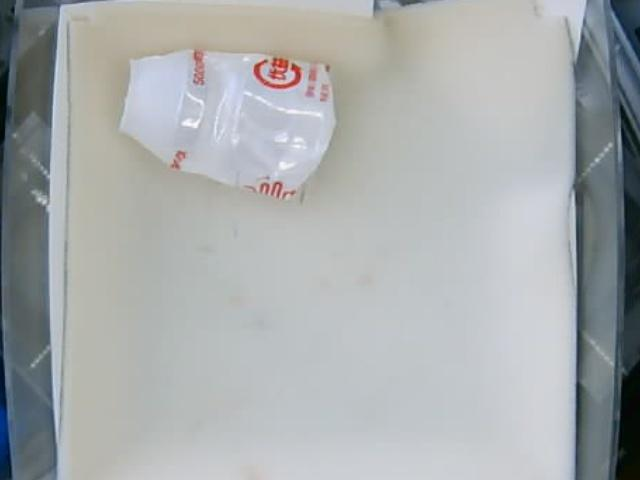Bottle: (122, 47, 336, 201)
